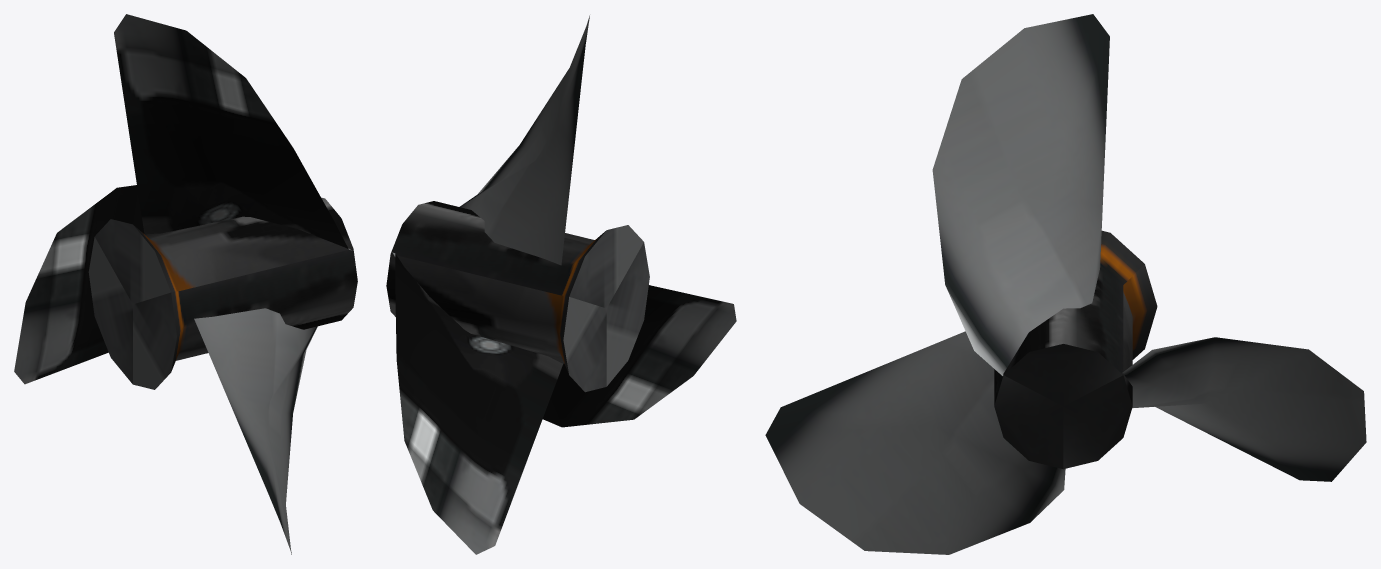
Rendered from propeller.glb.
3 renders of one model, left to right at view 1: azimuth 30°, elevation 25°; view 2: azimuth 150°, elevation 25°; view 3: azimuth 270°, elevation 25°, orthographic. The views are drawn at different scales.
Visible parts, largest first — view 1: mesh0; view 2: mesh0; view 3: mesh0.
Boxes of the visible parts, x1,y1,x2,y2 form: mesh0: (14, 14, 357, 554); mesh0: (386, 15, 736, 554); mesh0: (765, 14, 1366, 554).
Size of the model in its own units: 0.1666 by 0.3941 by 0.4234.
1 material, 1 textured.
